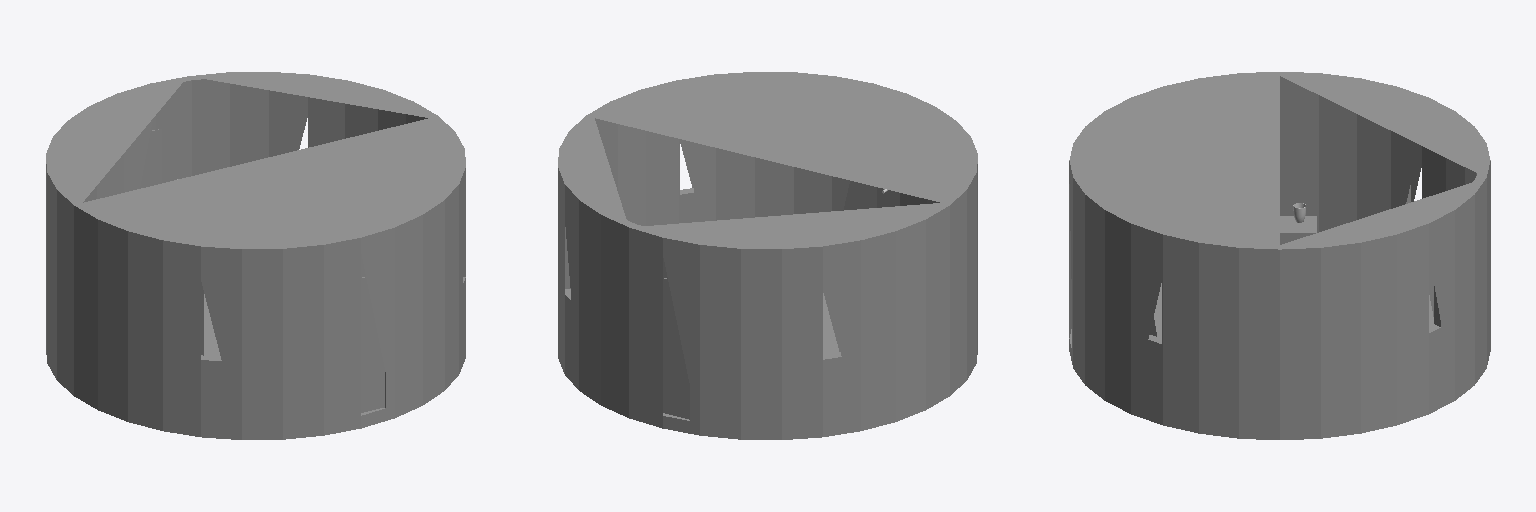
File: Crate.obj
3 views of the same model, side by side, from view 1: azimuth 30°, elevation 25°; view 2: azimuth 150°, elevation 25°; view 3: azimuth 270°, elevation 25° (orthographic).
Parts seen in each view (by area): view 1: Walls_Cylinder.001, Door1_Cube.005, Door2_Cube.001, Floor_Cylinder.003; view 2: Walls_Cylinder.001, Door2_Cube.001, Door1_Cube.005, Floor_Cylinder.003; view 3: Walls_Cylinder.001, Cabinet_Cube.006.
Part boxes in pixels (left/top/right/bottom): Walls_Cylinder.001: left=46, top=72, right=465, bottom=439; Door1_Cube.005: left=361, top=254, right=384, bottom=412; Door2_Cube.001: left=140, top=116, right=161, bottom=188; Floor_Cylinder.003: left=204, top=294, right=220, bottom=356; Walls_Cylinder.001: left=558, top=72, right=977, bottom=439; Door2_Cube.001: left=663, top=258, right=689, bottom=419; Door1_Cube.005: left=843, top=181, right=876, bottom=210; Floor_Cylinder.003: left=823, top=293, right=839, bottom=354; Walls_Cylinder.001: left=1069, top=72, right=1490, bottom=439; Cabinet_Cube.006: left=1280, top=216, right=1316, bottom=244.
Size of the model in its own units: 8 by 4 by 8.